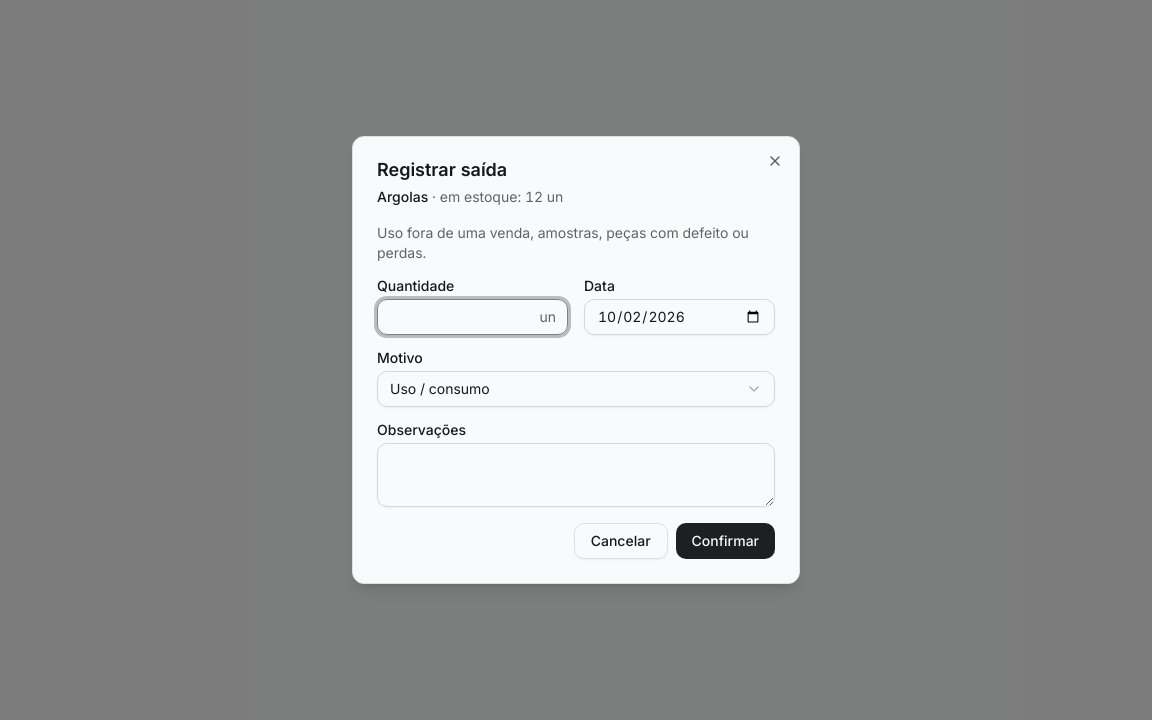
Scenario: MovementDialog › requires a positive quantity
Click the button "Confirmar".
click(725, 541)  # box x1=676 y1=523 x2=775 y2=559
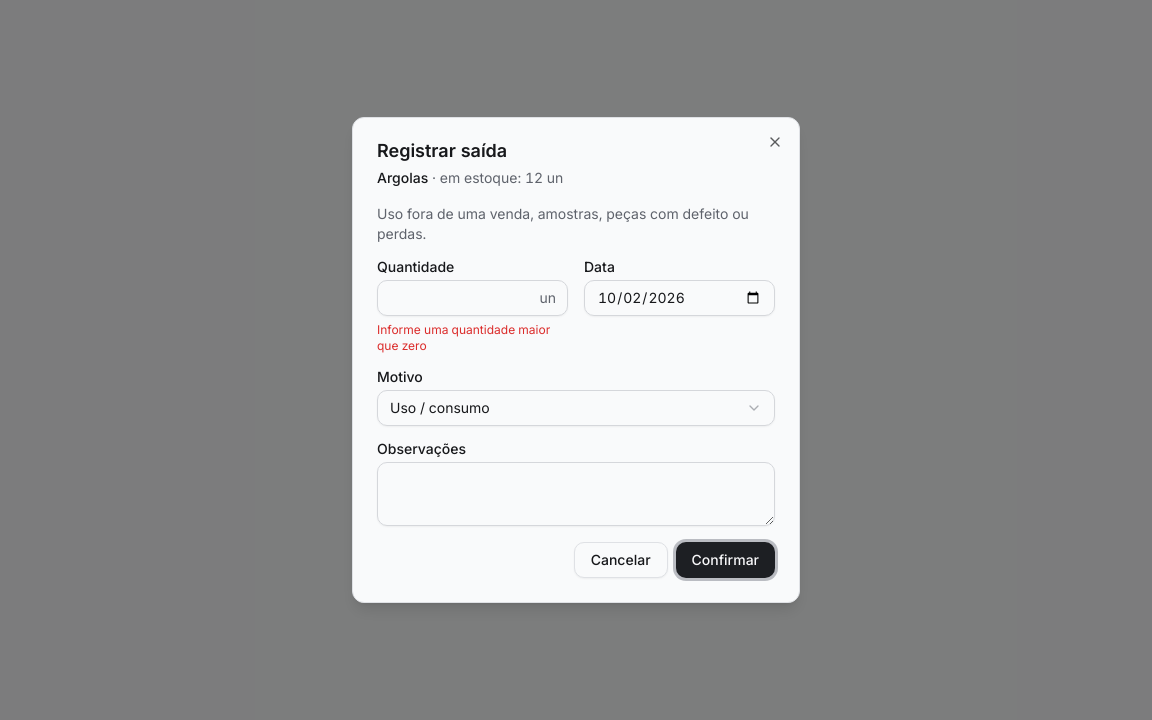
Expected: the text "Informe uma quantidade maior que zero" is shown, x1=377 y1=322 x2=568 y2=354
